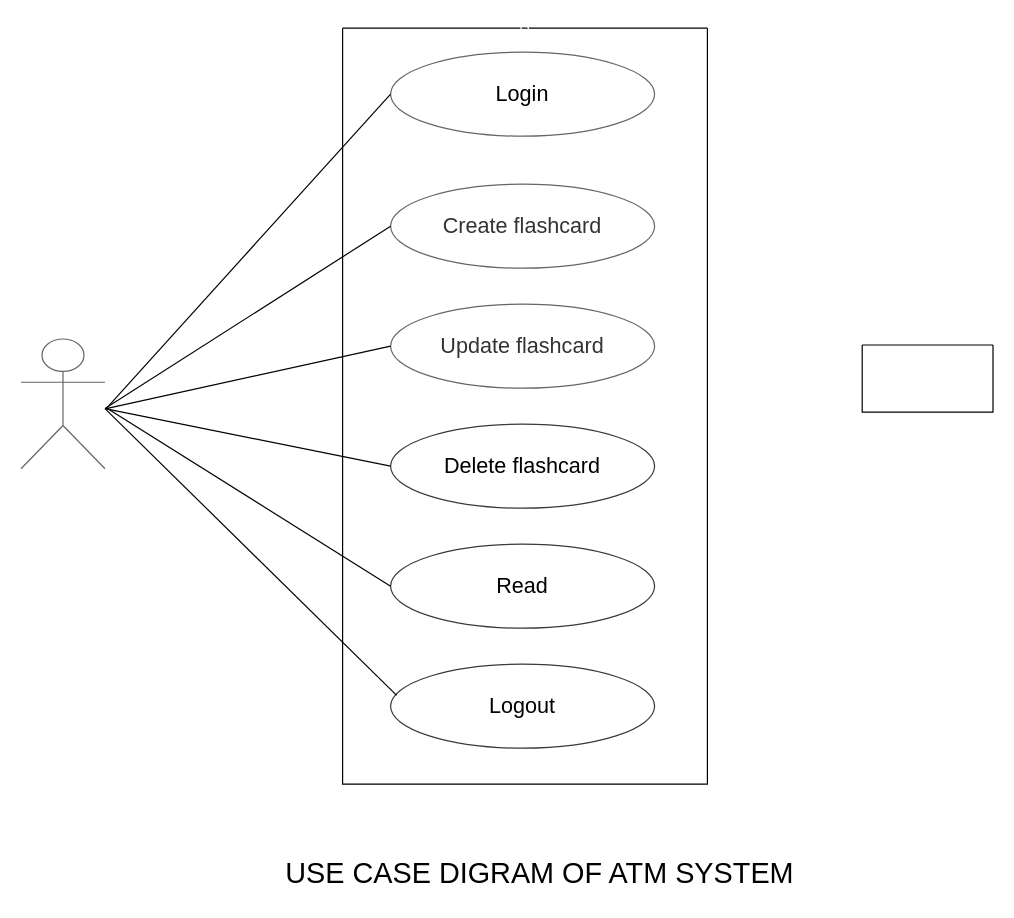
Image size: 1014x918. Some labels were removed from this diagram. Here are the shapes that lost their labels. From the top down, the box of each, then its label:
(861, 344, 993, 412): System
(20, 338, 105, 469): User
